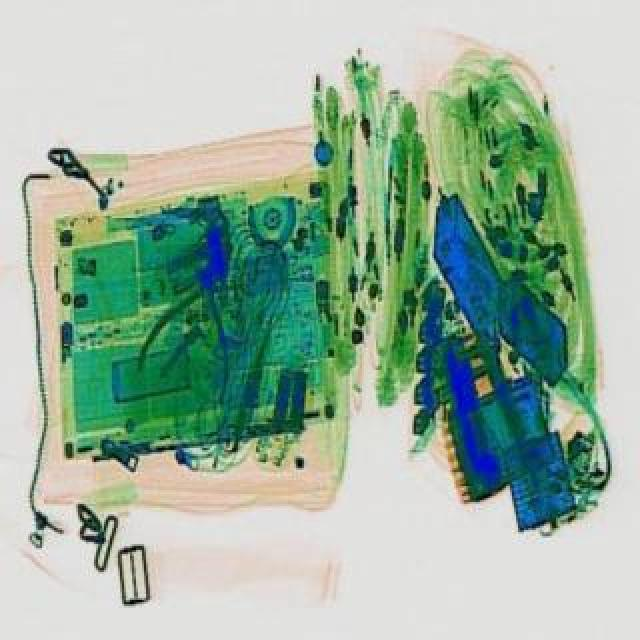wrench: (130, 234, 264, 402)
